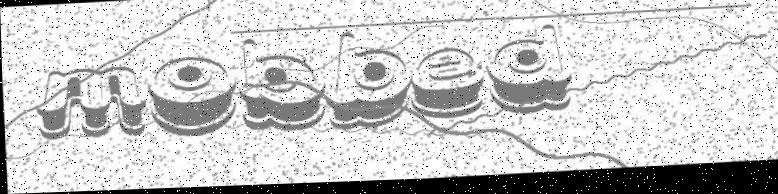b: (324, 30, 411, 135), (237, 33, 326, 135)
d: (484, 25, 573, 122)
e: (406, 45, 486, 125)
m: (32, 62, 148, 141)
o: (144, 53, 240, 142)
